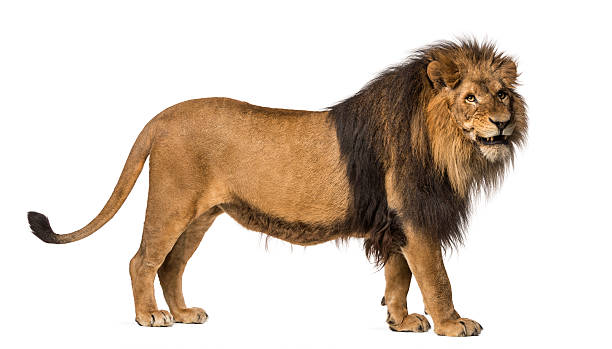lion: (334, 15, 543, 285)
